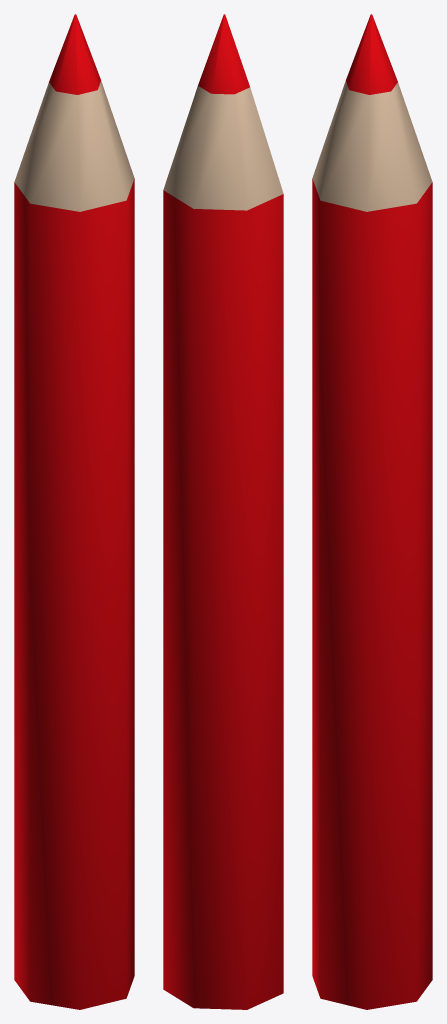
File: pencil color1.fbx
3 renders of one model, left to right at view 1: azimuth 30°, elevation 25°; view 2: azimuth 150°, elevation 25°; view 3: azimuth 330°, elevation 25°, orthographic.
Parts seen in each view (by area): view 1: Cylinder.012; view 2: Cylinder.012; view 3: Cylinder.012.
Part boxes in pixels (box(x1,y1,x2,y2)): Cylinder.012: box(14, 14, 134, 1009); Cylinder.012: box(163, 14, 283, 1009); Cylinder.012: box(312, 14, 432, 1009).
Size of the model in its own units: 299 by 2654 by 291.
